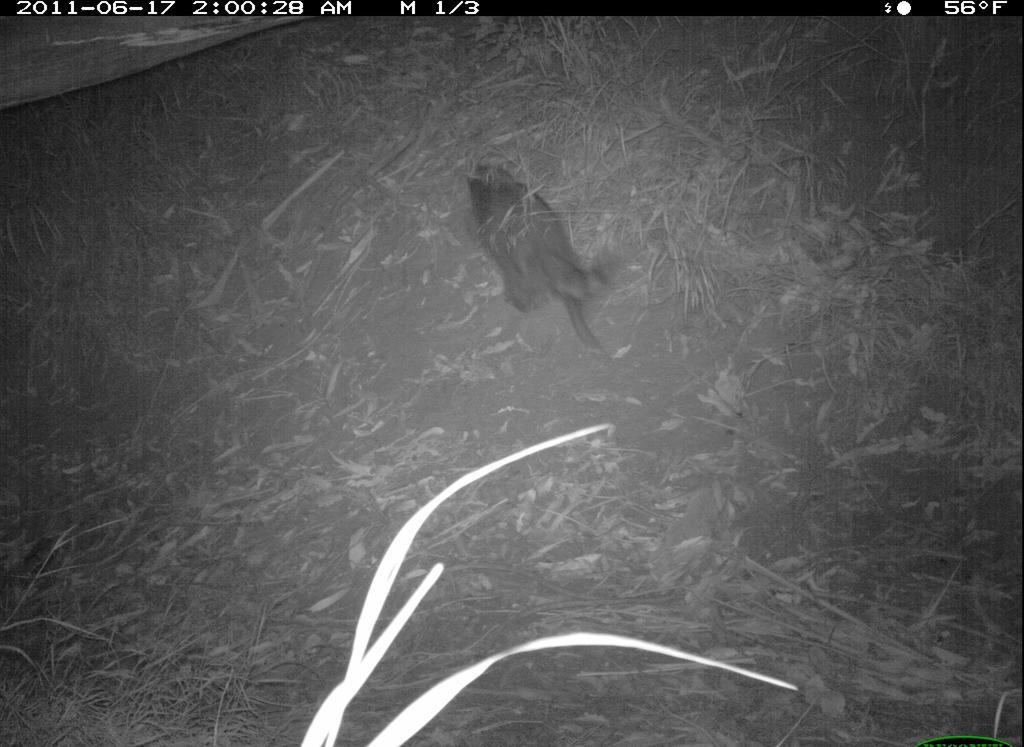raccoon: (445, 135, 632, 361)
